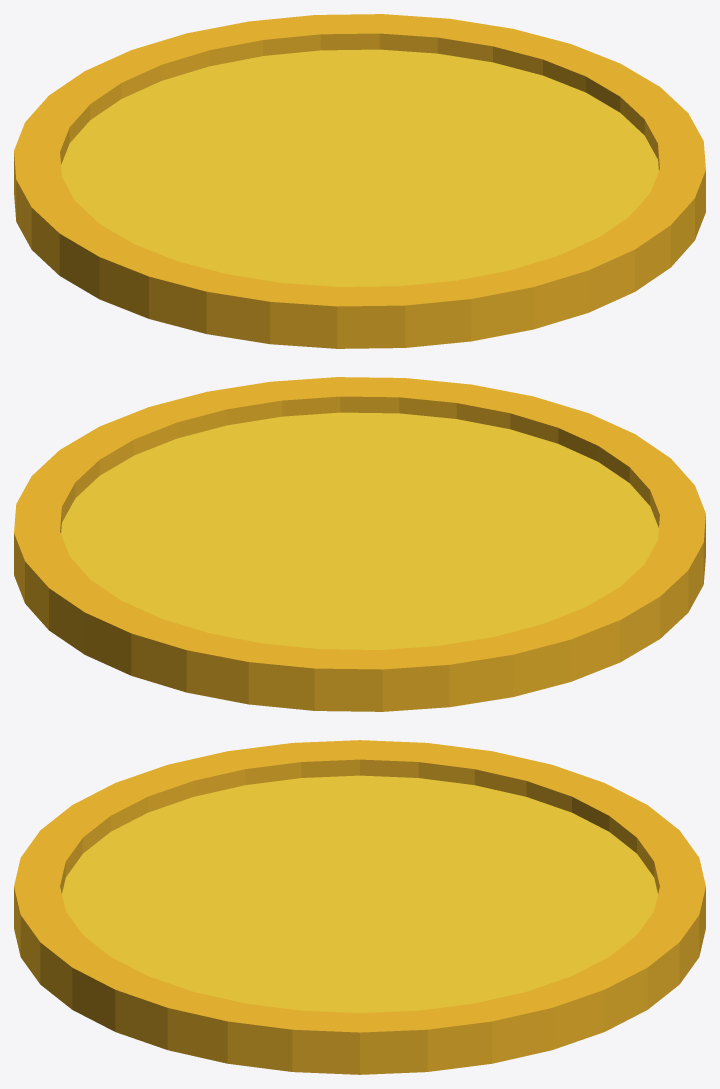
The model's file is gold.fbx.
The picture shows the model from 3 angles, top to bottom: view 1: azimuth 30°, elevation 25°; view 2: azimuth 150°, elevation 25°; view 3: azimuth 270°, elevation 25°; orthographic projection.
Parts seen in each view (by area): view 1: Cylinder.001; view 2: Cylinder.001; view 3: Cylinder.001.
Part boxes in pixels (box(x1,y1,x2,y2)): Cylinder.001: box(14, 14, 705, 348); Cylinder.001: box(14, 377, 705, 711); Cylinder.001: box(14, 740, 705, 1074).
Bounding box in the file's own units: 375 × 25.34 × 375.
